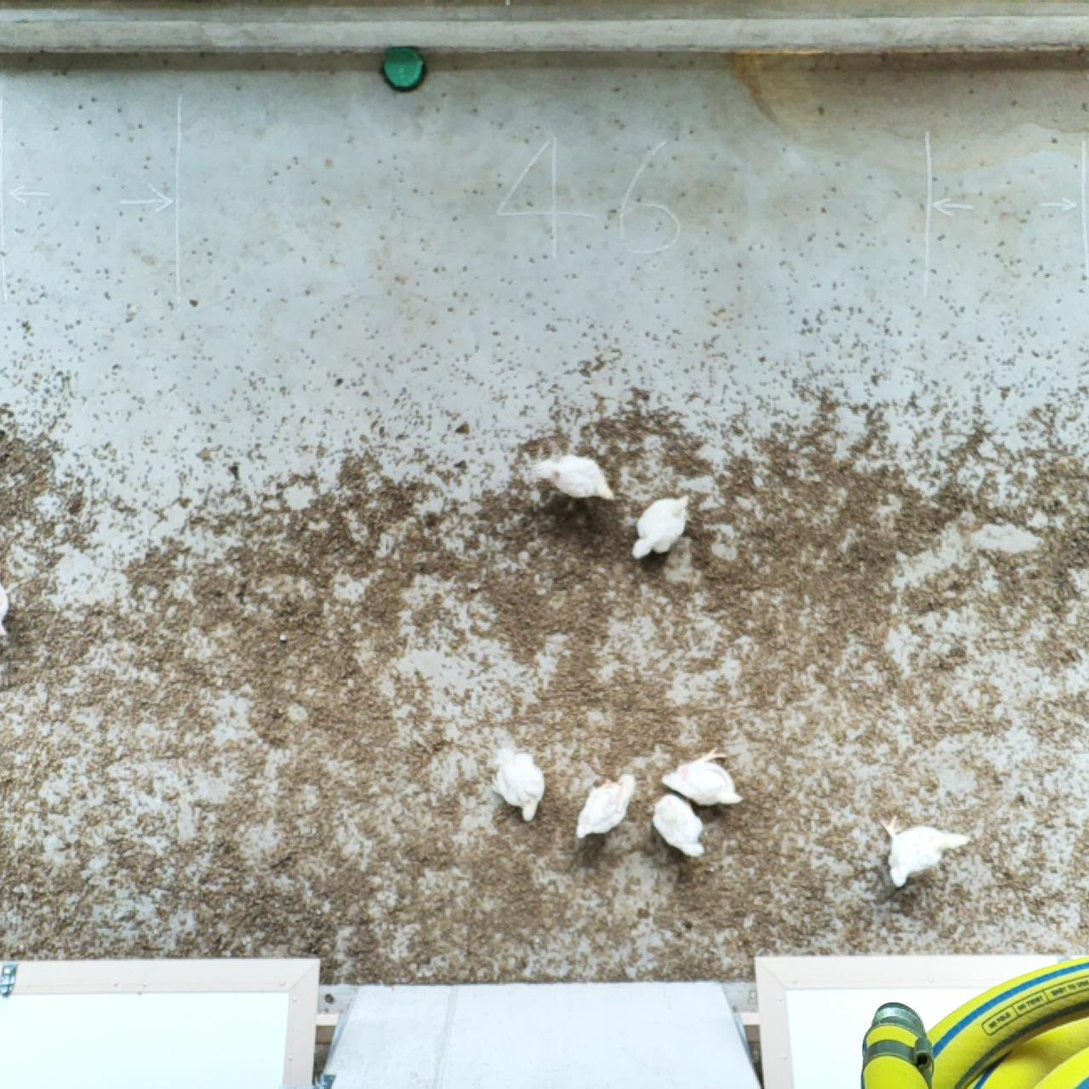chicken: (875, 811, 974, 889), (659, 744, 746, 809), (573, 770, 639, 845), (489, 745, 547, 824), (629, 492, 694, 562), (651, 792, 708, 860), (546, 452, 616, 506)
